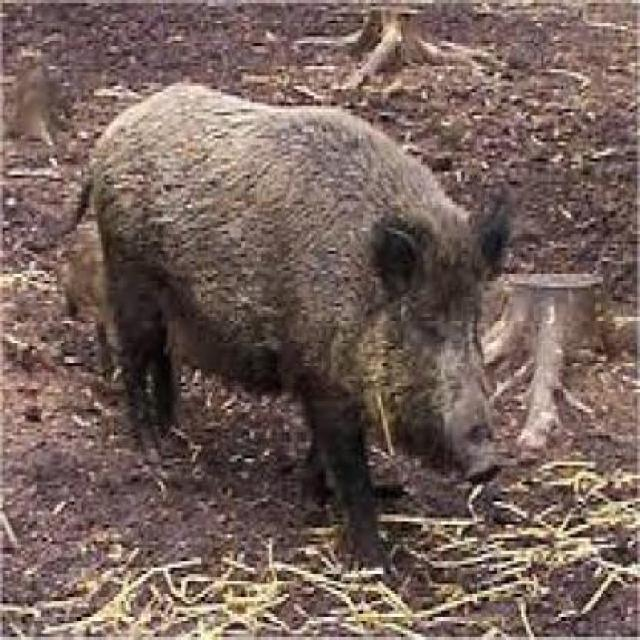wildboar: (23, 67, 529, 578)
